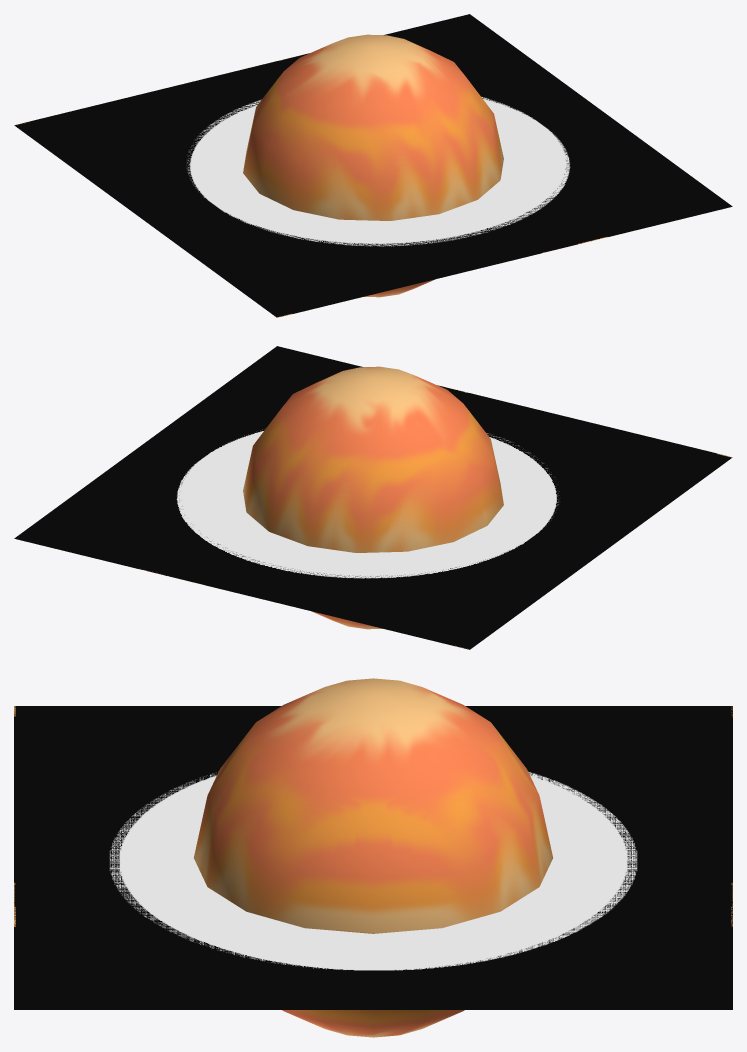
File: Explosion.obj
The picture shows the model from 3 angles, top to bottom: view 1: azimuth 30°, elevation 25°; view 2: azimuth 150°, elevation 25°; view 3: azimuth 270°, elevation 25°; orthographic projection. The views are drawn at different scales.
Visible parts, largest first — view 1: Sphere; view 2: Sphere; view 3: Sphere.
Boxes of the visible parts, bbox=[...] form: Sphere: bbox=[14, 14, 732, 317]; Sphere: bbox=[14, 346, 732, 649]; Sphere: bbox=[14, 678, 732, 1037].
Size of the model in its own units: 4 by 2 by 4.
